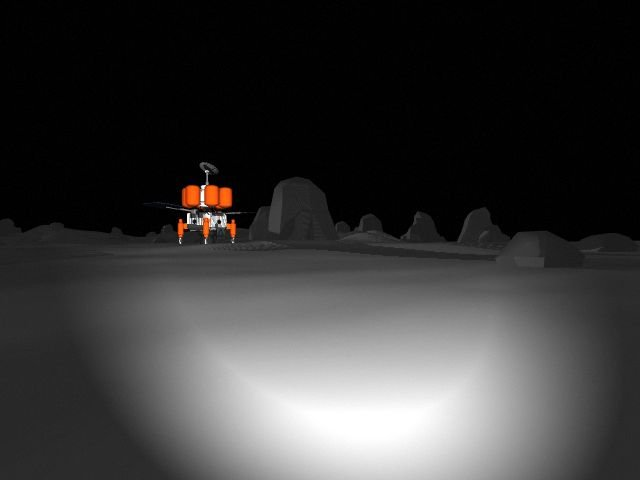homebase: (161, 158, 249, 250)
